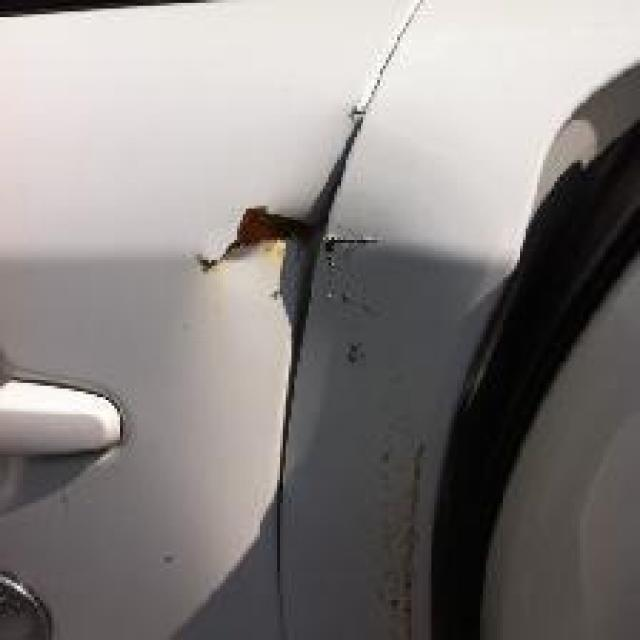damaged: (194, 92, 449, 638)
